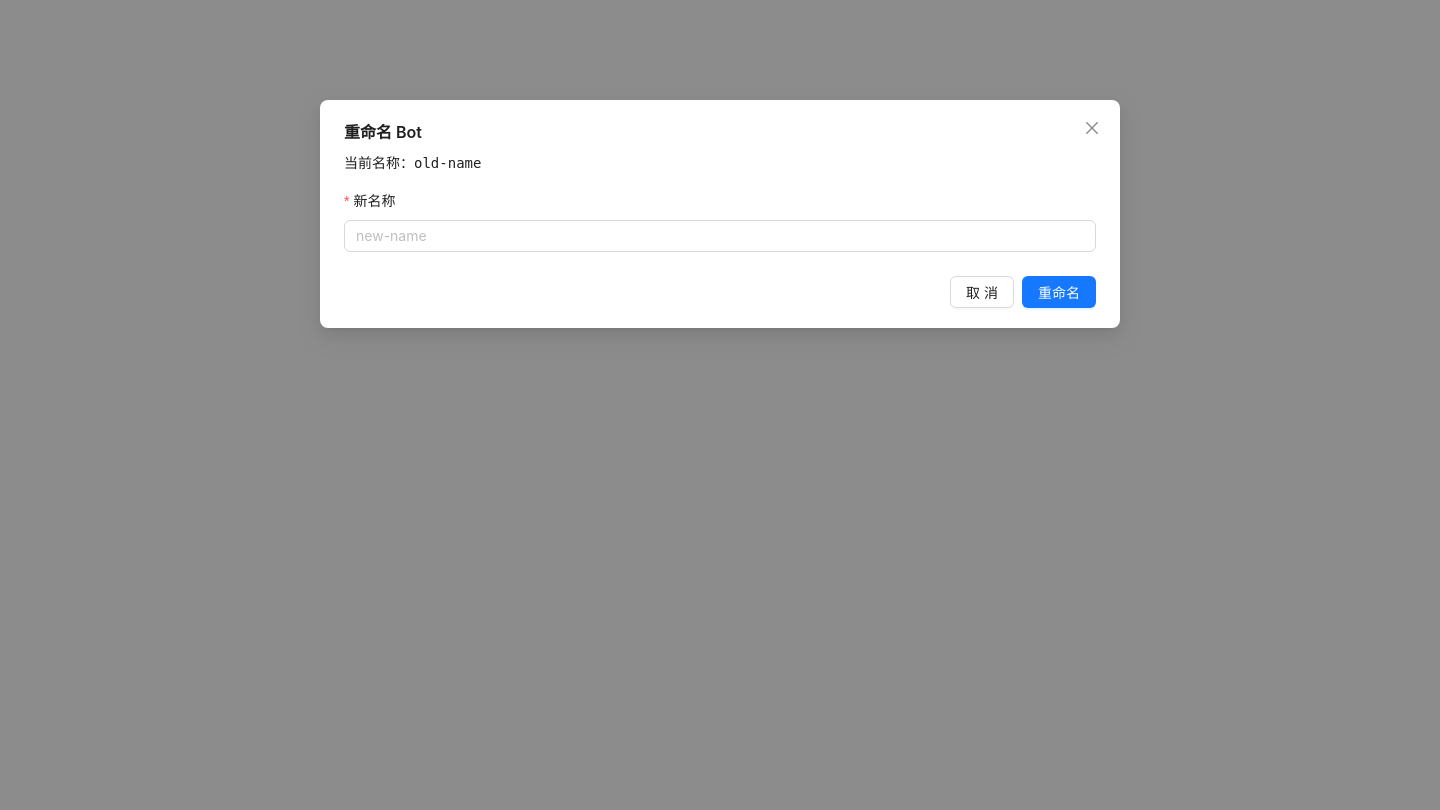
it: <RenameBotModal> › uses extractErrorMessage on error (W5)
Expected: the text "重命名 Bot" is shown, [344,122,422,142]
Type "conflict-name" into the field with placeholder "new-name".
click(712, 236); type("conflict-name")  # box [356,225,1068,247]
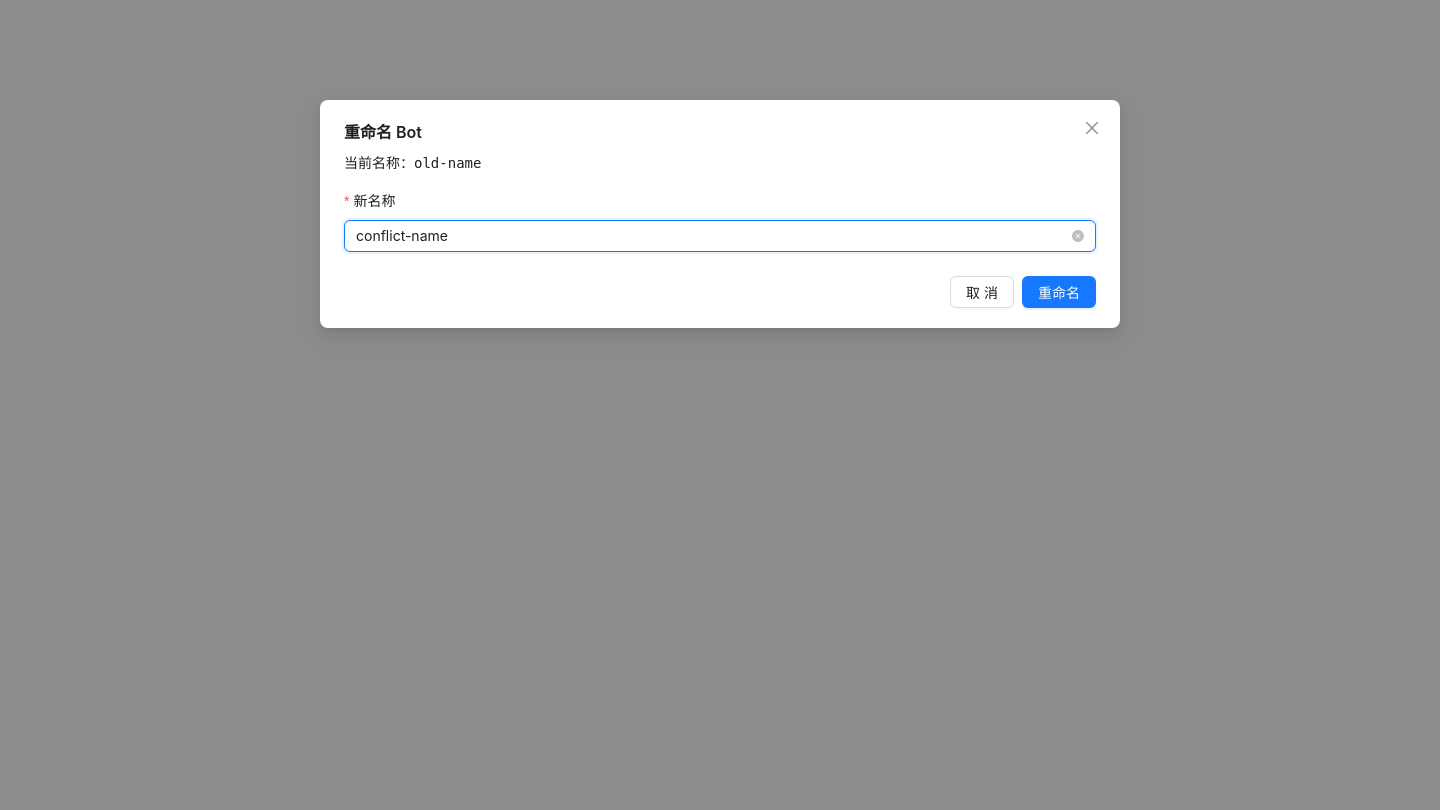
Click the button "重命名".
click(1059, 292)  # box [1022,276,1096,308]
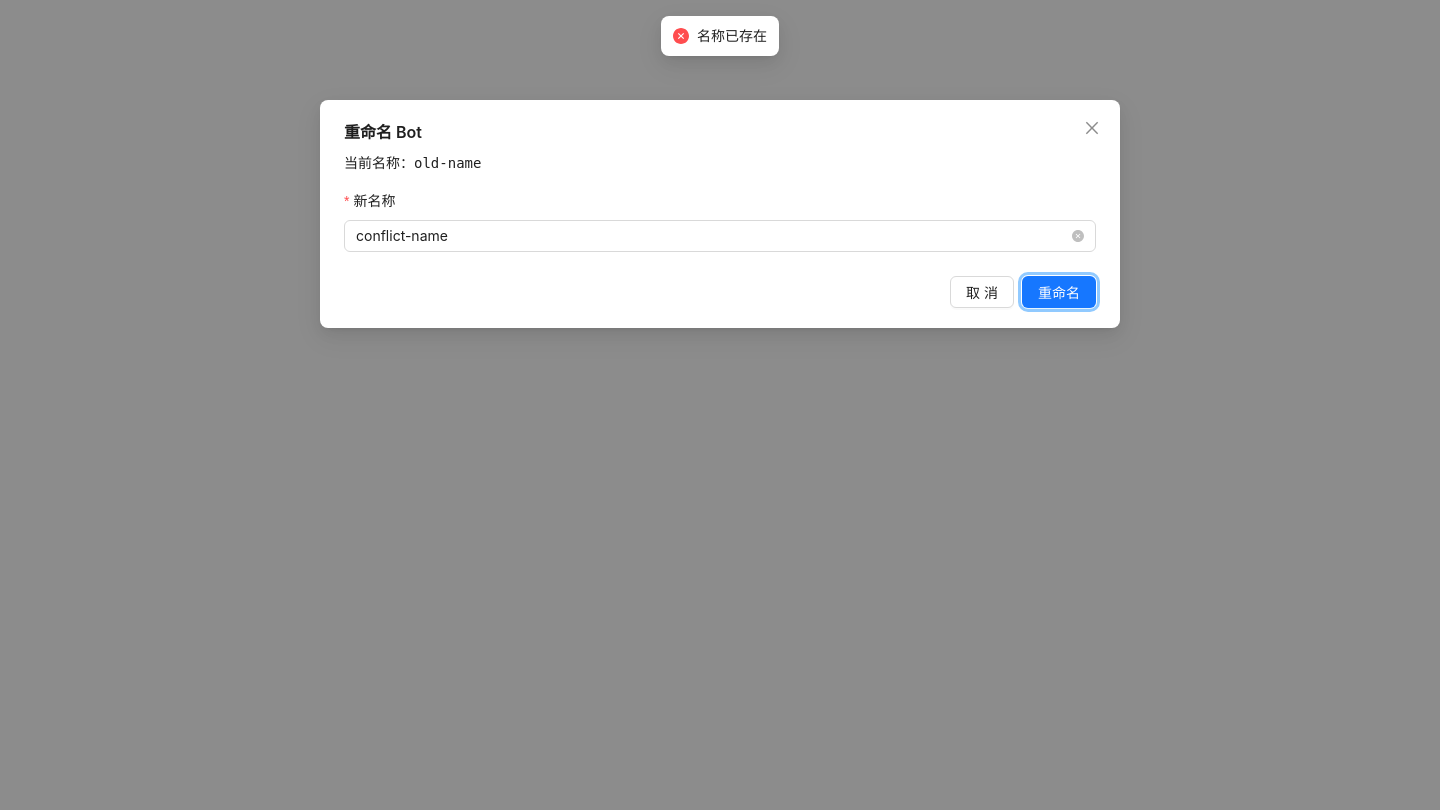
Expected: the text "名称已存在" is shown, [697,25,767,47]
